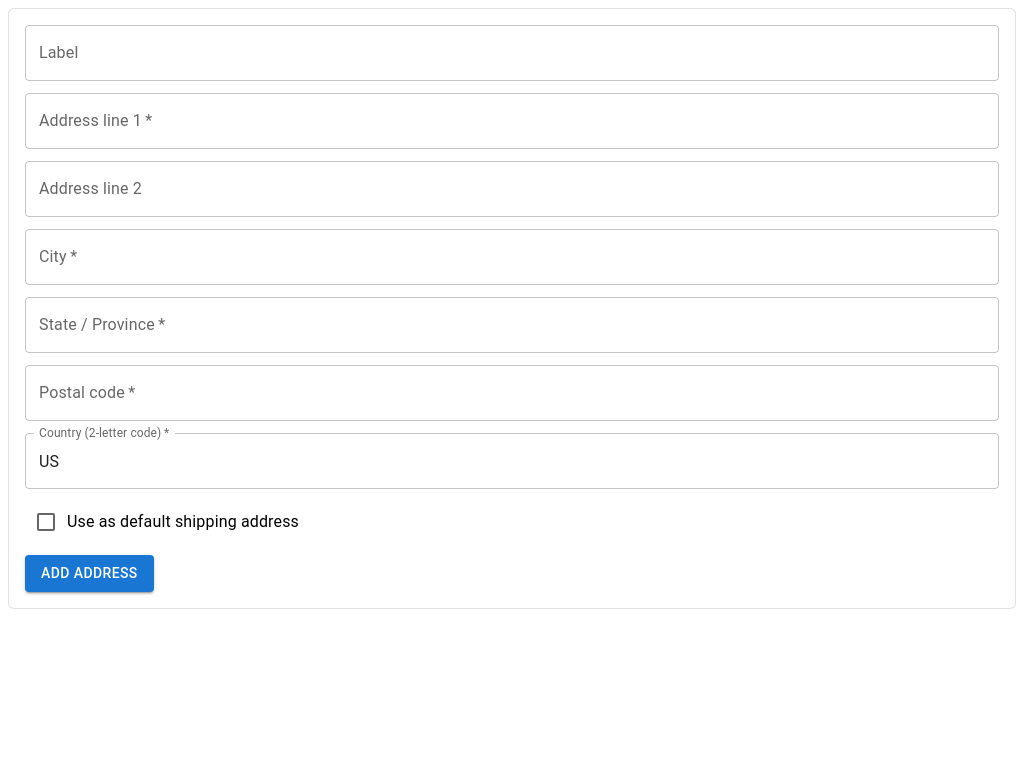
Test: shows an error when save fails
Type "123 Main St" into the field labelled "Address line 1 *".
click(512, 121); type("123 Main St")  # box left=25, top=93, right=999, bottom=149
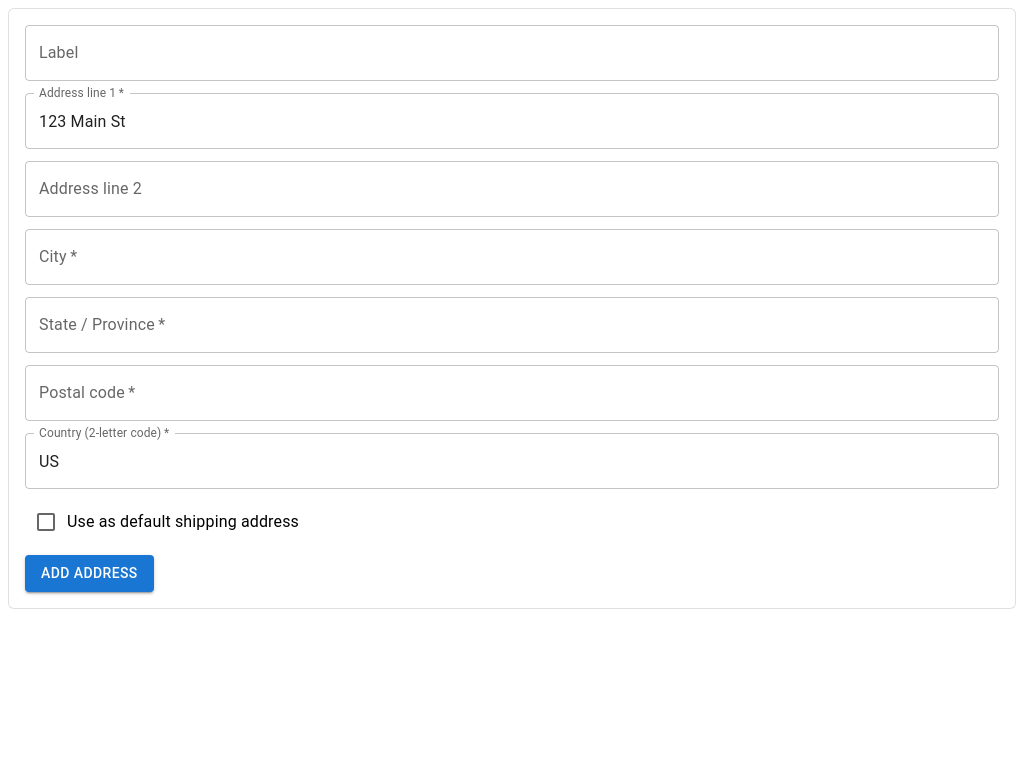
Type "Santa Cruz" into the field labelled "City *".
click(512, 257); type("Santa Cruz")  # box left=25, top=229, right=999, bottom=285
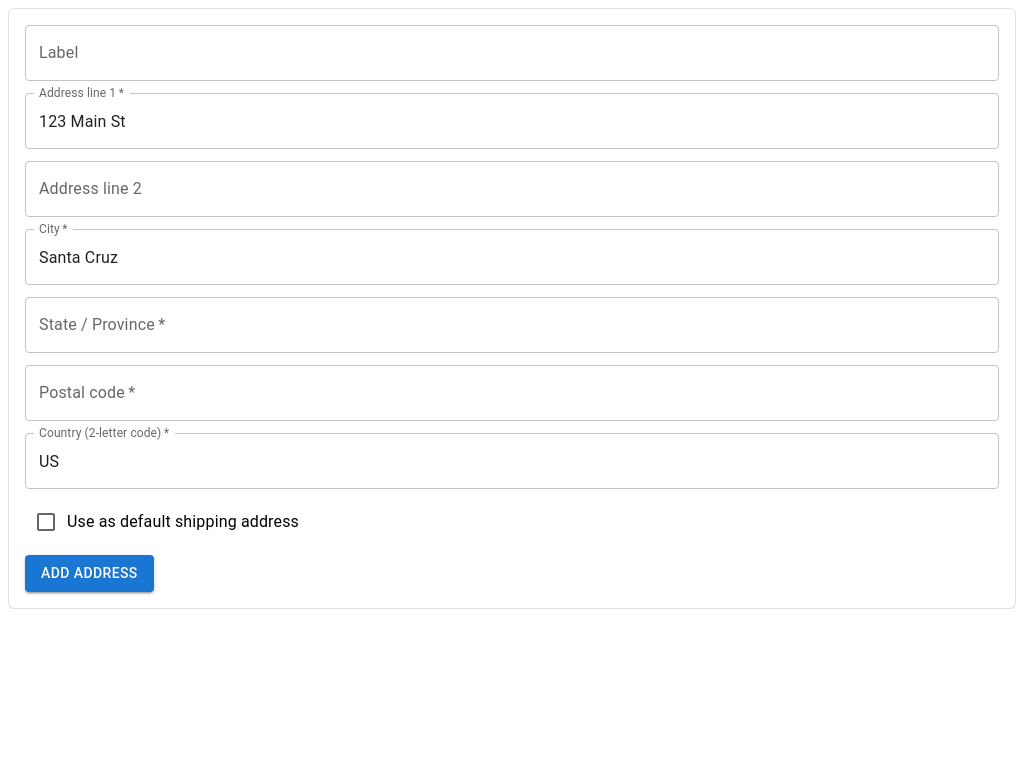
Type "CA" into the field labelled "State / Province *".
click(512, 325); type("CA")  # box left=25, top=297, right=999, bottom=353
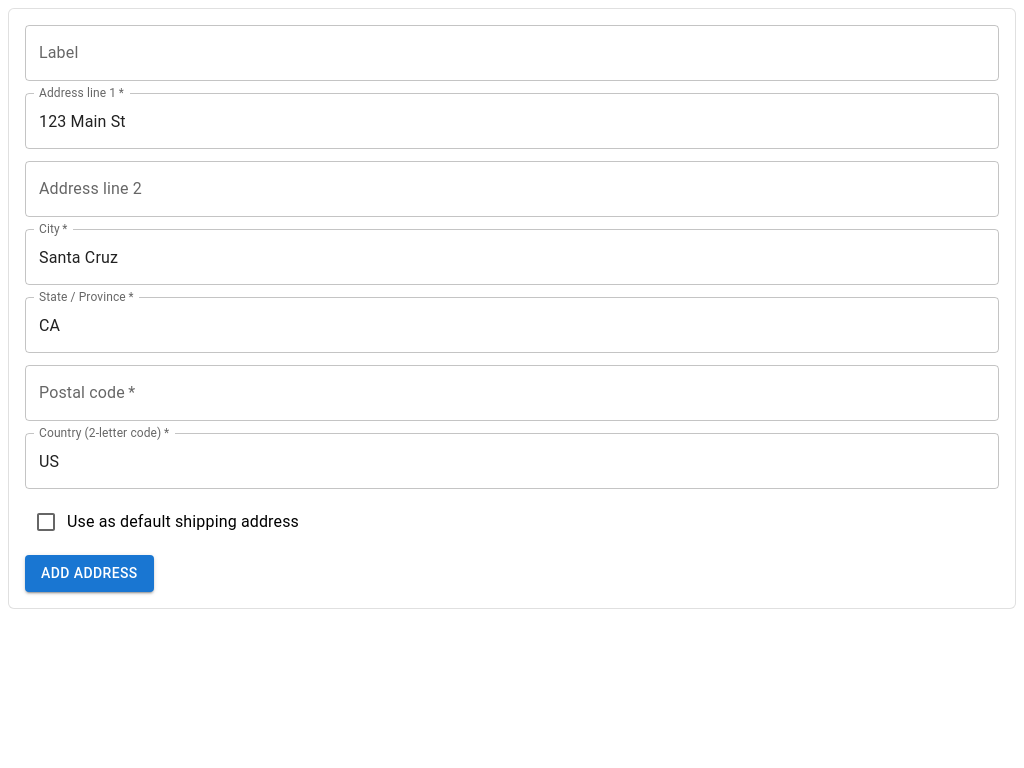
Type "95060" into the field labelled "Postal code *".
click(512, 393); type("95060")  # box left=25, top=365, right=999, bottom=421
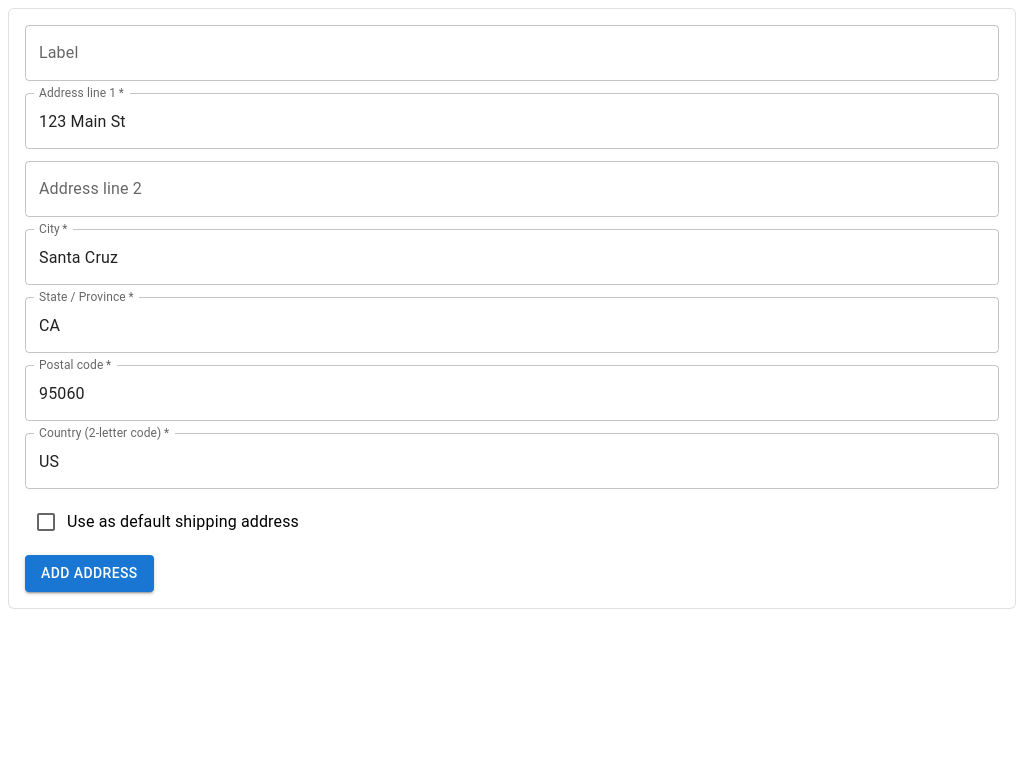
Click the button "Add address".
click(89, 573)  # box left=25, top=555, right=154, bottom=592
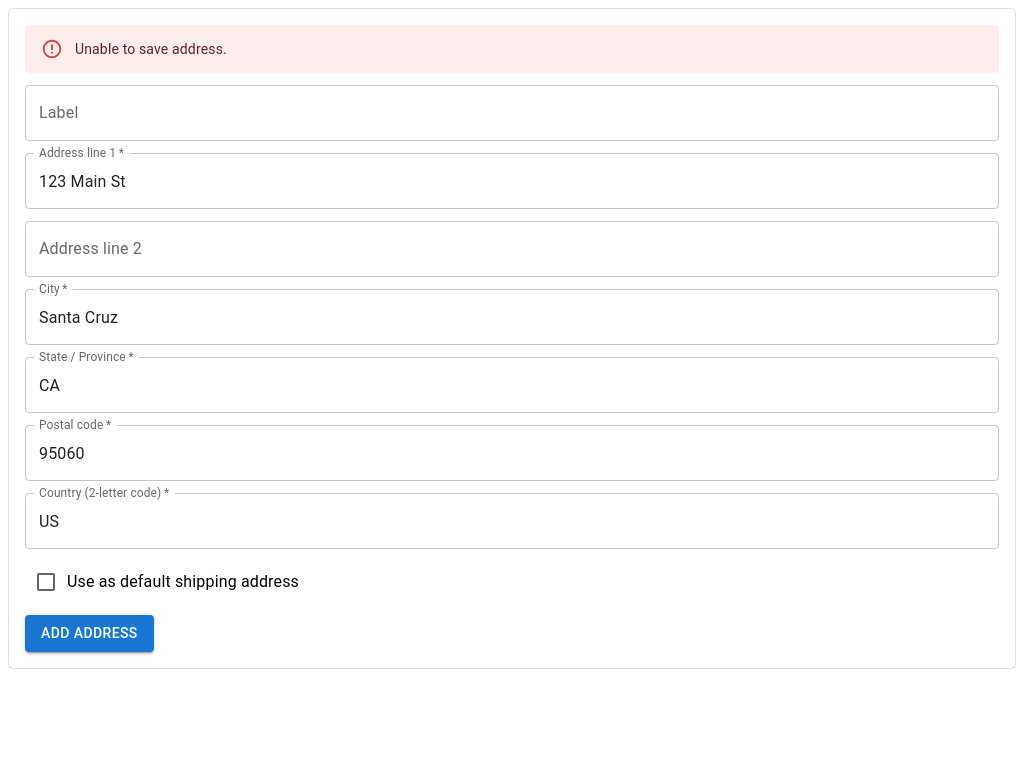
Result: the message reads "Unable to save address." at left=75, top=41, right=227, bottom=57
